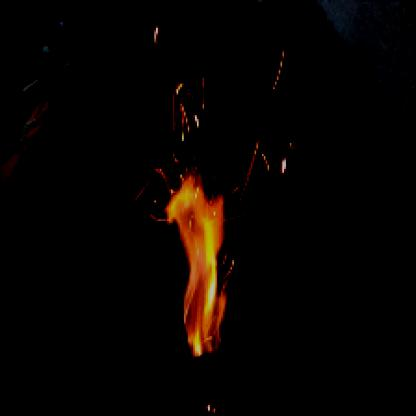Fire: (145, 152, 236, 360)
